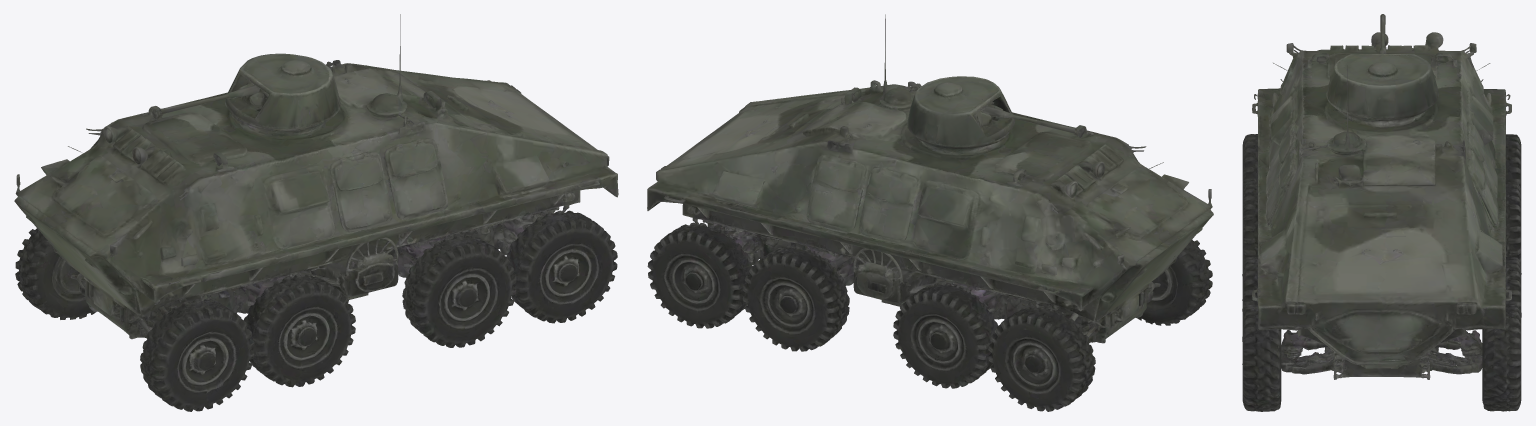
Rendered from apc.glb.
3 renders of one model, left to right at view 1: azimuth 30°, elevation 25°; view 2: azimuth 150°, elevation 25°; view 3: azimuth 270°, elevation 25°, orthographic. The views are drawn at different scales.
Size of the model in its own units: 1.9 by 1.05 by 0.9309.
1 material, 1 textured.
